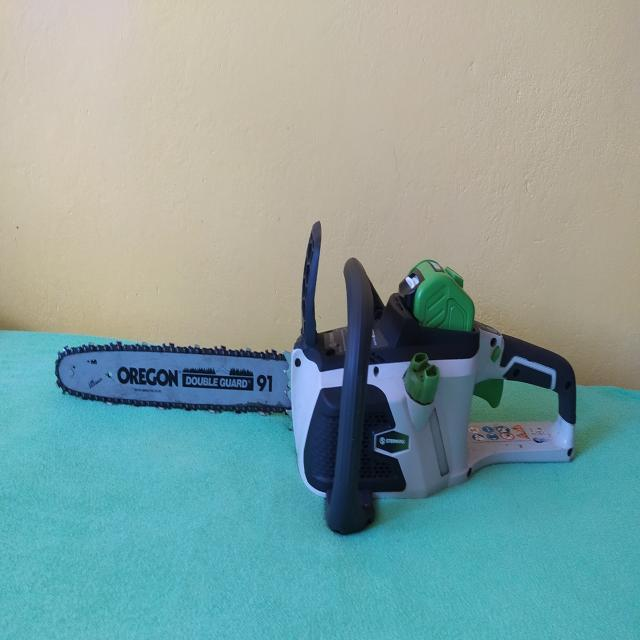Chainsaw: (51, 212, 579, 539)
